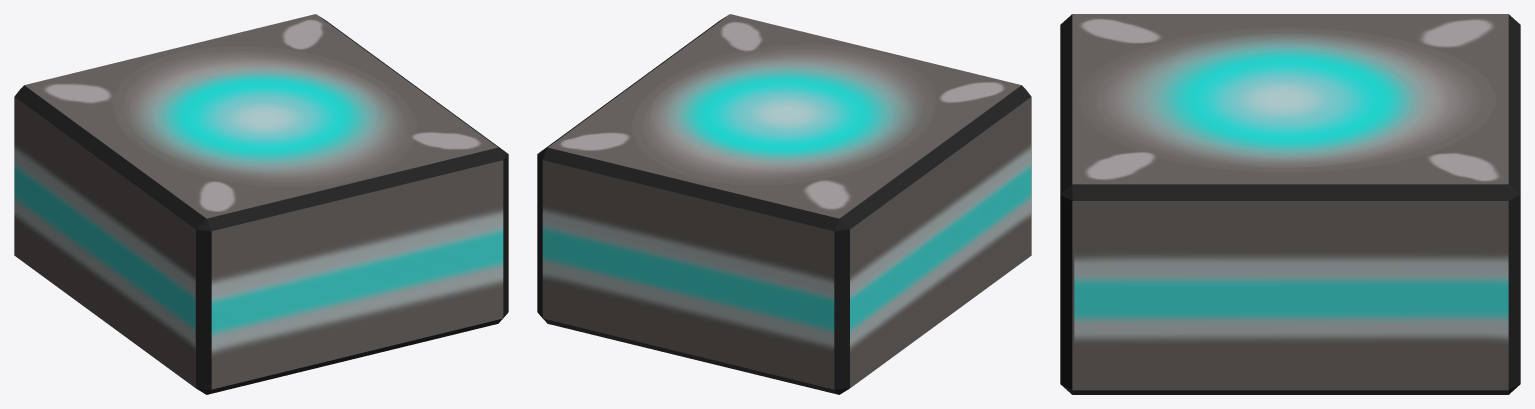
The model's file is Eletrodomesticos.fbx.
3 views of the same model, side by side, from view 1: azimuth 30°, elevation 25°; view 2: azimuth 150°, elevation 25°; view 3: azimuth 270°, elevation 25° (orthographic). The views are drawn at different scales.
Visible parts, largest first — view 1: Eletrodomesticos; view 2: Eletrodomesticos; view 3: Eletrodomesticos.
Part boxes in pixels (bbox=[...]): Eletrodomesticos: bbox=[14, 14, 508, 394]; Eletrodomesticos: bbox=[537, 14, 1031, 394]; Eletrodomesticos: bbox=[1060, 14, 1520, 394].
Size of the model in its own units: 764 by 412 by 815.
